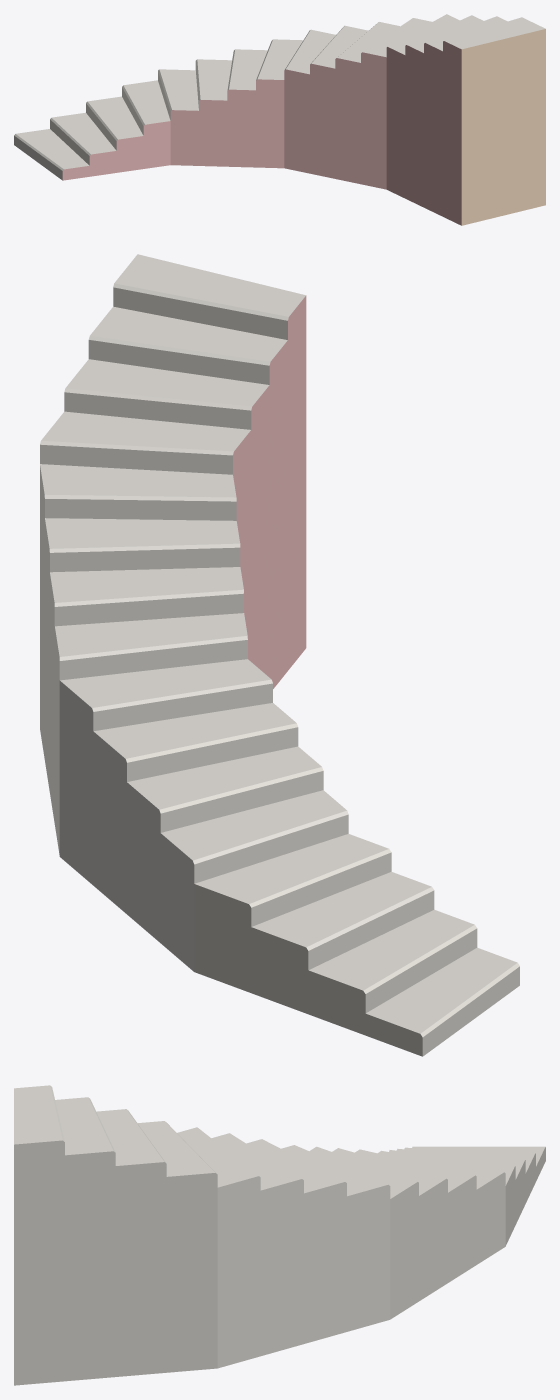
File: Tiered_Walkway_Steps_Curve_Tall_4x4.fbx
3 renders of one model, top to bottom at view 1: azimuth 30°, elevation 25°; view 2: azimuth 150°, elevation 25°; view 3: azimuth 270°, elevation 25°, orthographic. The views are drawn at different scales.
Parts seen in each view (by area): view 1: Tiered_Walkway_Steps_Curve_Tall_4x4; view 2: Tiered_Walkway_Steps_Curve_Tall_4x4; view 3: Tiered_Walkway_Steps_Curve_Tall_4x4.
Boxes of the visible parts, box(x1,y1,x2,y2) form: Tiered_Walkway_Steps_Curve_Tall_4x4: box(14, 14, 545, 225); Tiered_Walkway_Steps_Curve_Tall_4x4: box(40, 254, 519, 1056); Tiered_Walkway_Steps_Curve_Tall_4x4: box(14, 1085, 545, 1385).
Bounding box in the file's own units: 400 × 200 × 400.
